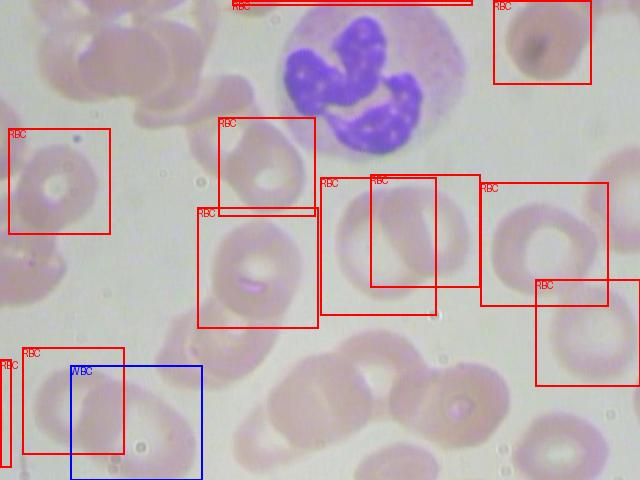RBC: (320, 177, 436, 315), (480, 182, 608, 306), (197, 207, 318, 328), (370, 174, 480, 287), (535, 279, 640, 386), (22, 347, 124, 454), (8, 128, 110, 234), (218, 117, 315, 216), (493, 0, 591, 84), (232, 0, 472, 5), (0, 359, 11, 467)
WBC: (70, 365, 202, 480)
